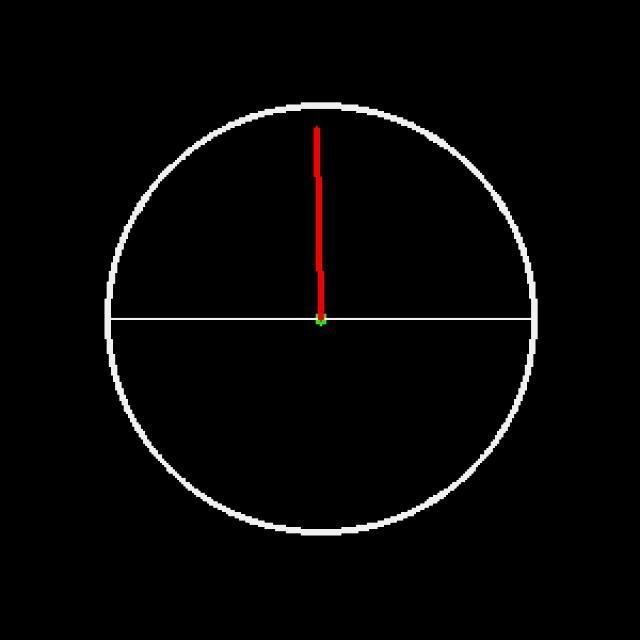Needle_Tip: (295, 118, 336, 165)
Needle_base: (284, 280, 357, 342)
